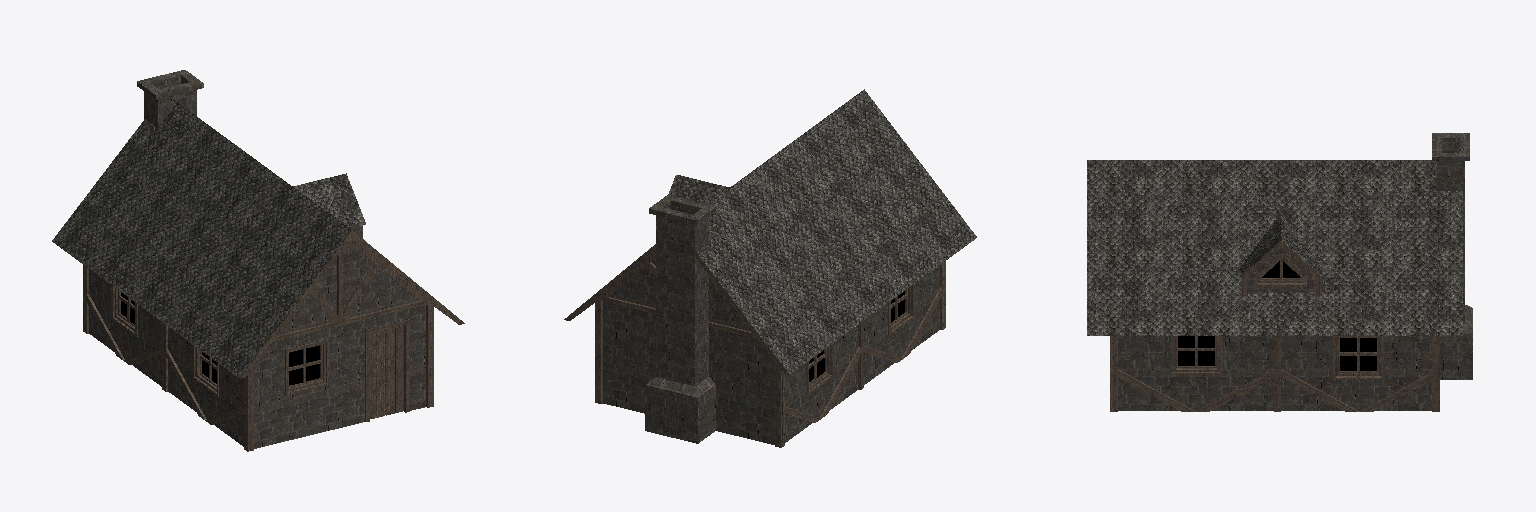
3 views of the same model, side by side, from view 1: azimuth 30°, elevation 25°; view 2: azimuth 150°, elevation 25°; view 3: azimuth 270°, elevation 25° (orthographic).
Visible parts, largest first — view 1: Mesh05; view 2: Mesh05; view 3: Mesh05.
Boxes of the visible parts, box(x1,y1,x2,y2) form: Mesh05: box(52, 70, 464, 451); Mesh05: box(564, 89, 976, 447); Mesh05: box(1087, 133, 1472, 411).
Bounding box in the file's own units: 13.63 × 12.78 × 20.12.
6 materials, 3 textured.